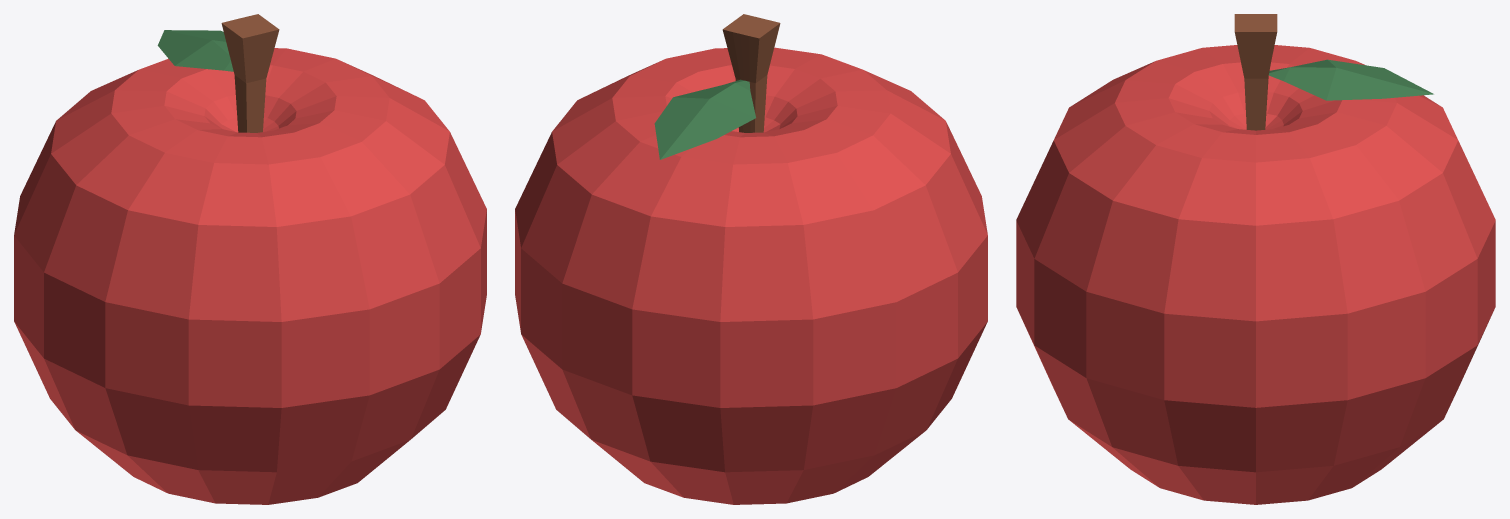
File: apel.fbx
3 views of the same model, side by side, from view 1: azimuth 30°, elevation 25°; view 2: azimuth 150°, elevation 25°; view 3: azimuth 270°, elevation 25° (orthographic).
Visible parts, largest first — view 1: Sphere; view 2: Sphere; view 3: Sphere.
Boxes of the visible parts, x1,y1,x2,y2 form: Sphere: [14, 14, 486, 504]; Sphere: [515, 14, 987, 504]; Sphere: [1016, 14, 1495, 504].
Bounding box in the file's own units: 196 × 205 × 196.
